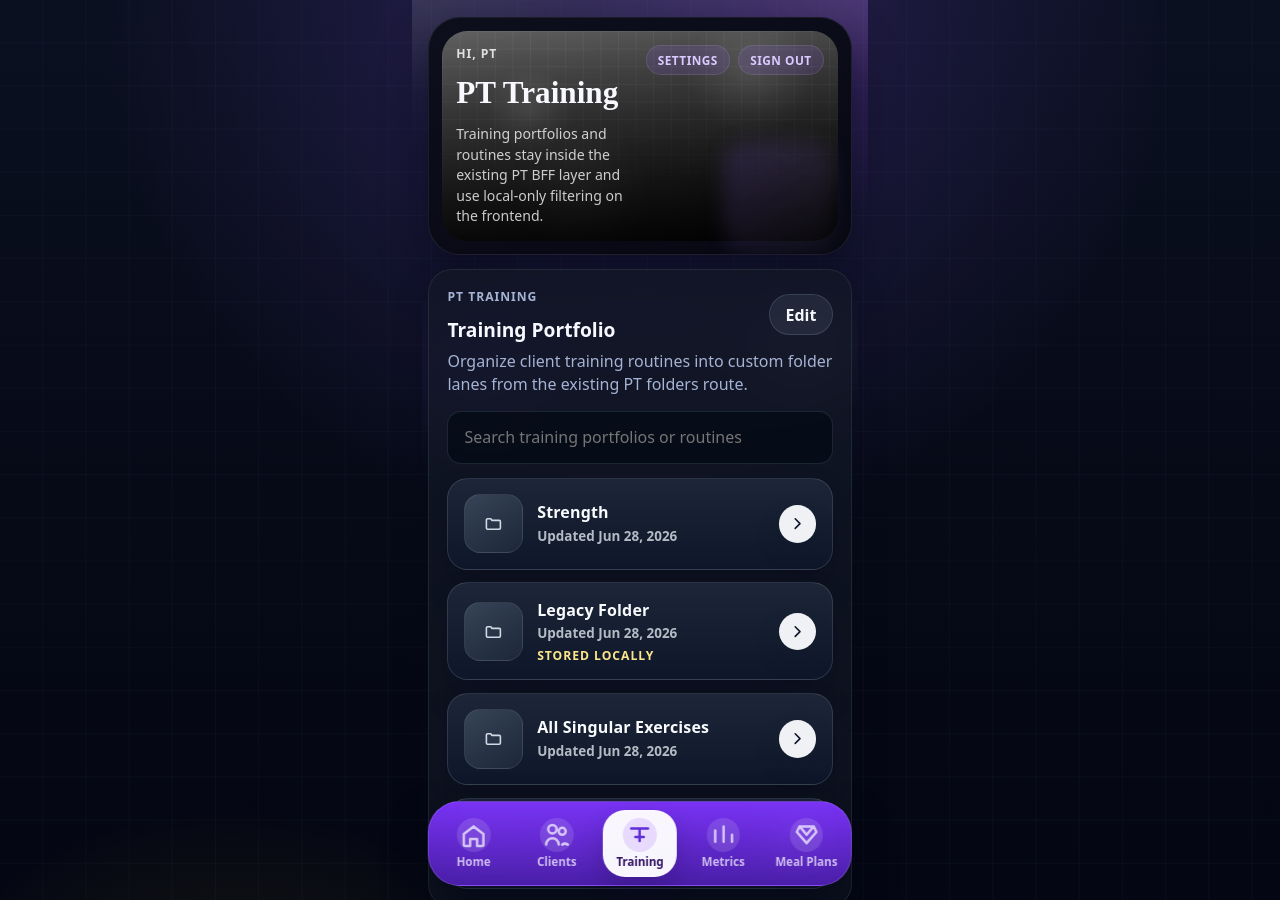
Test case: PTTrainingPage mobile experience › renders legacy single-target publish staging safely for older local routine drafts
Click the button named "Open training portfolio Legacy Folder": (640, 631) x1=447 y1=582 x2=833 y2=680
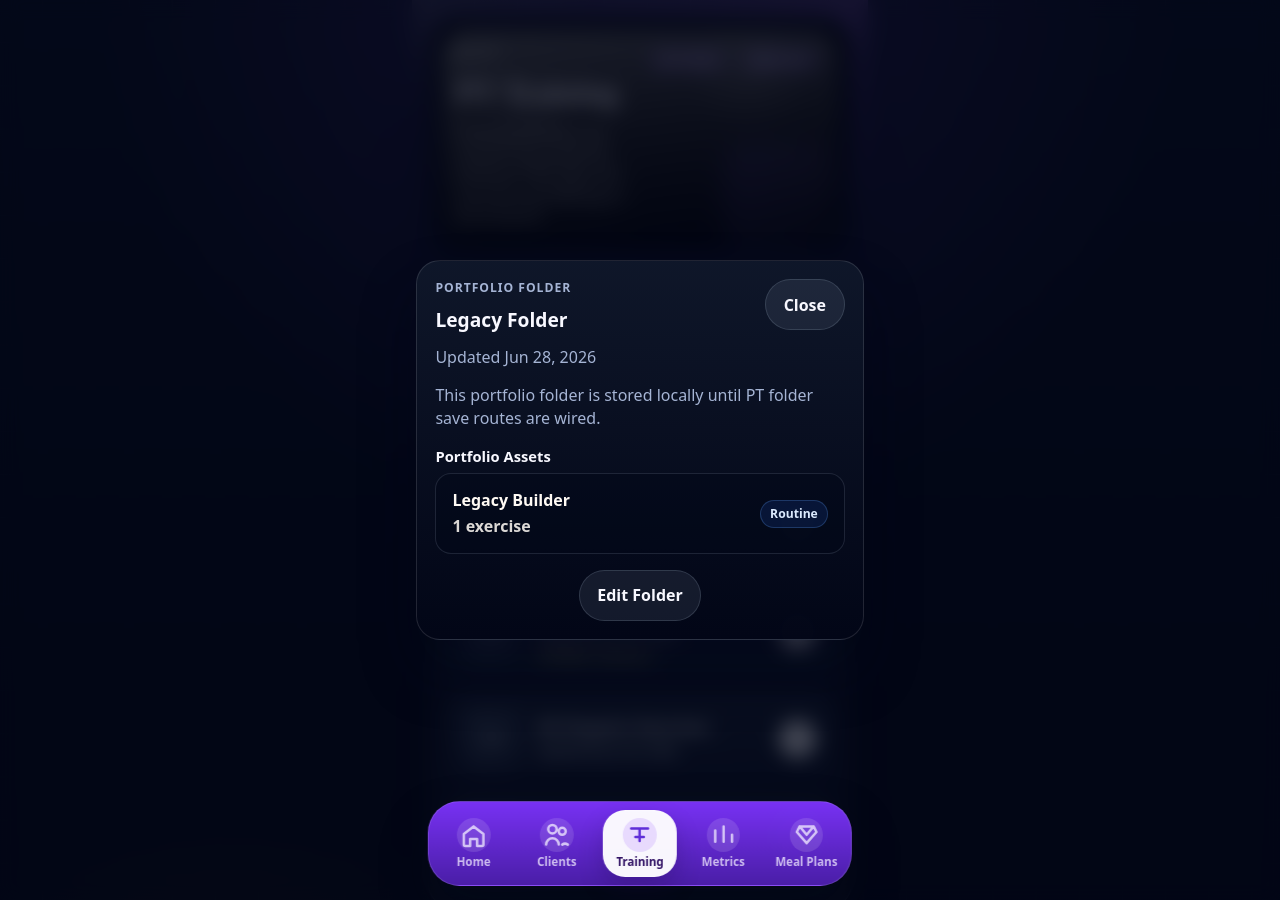
Check: the dialog "Legacy Folder" is shown, box x1=416 y1=260 x2=864 y2=640
Check: the button named "Open Routine asset Legacy Builder" is shown
Click the button named "Open Routine asset Legacy Builder": (511, 500) x1=435 y1=474 x2=845 y2=554
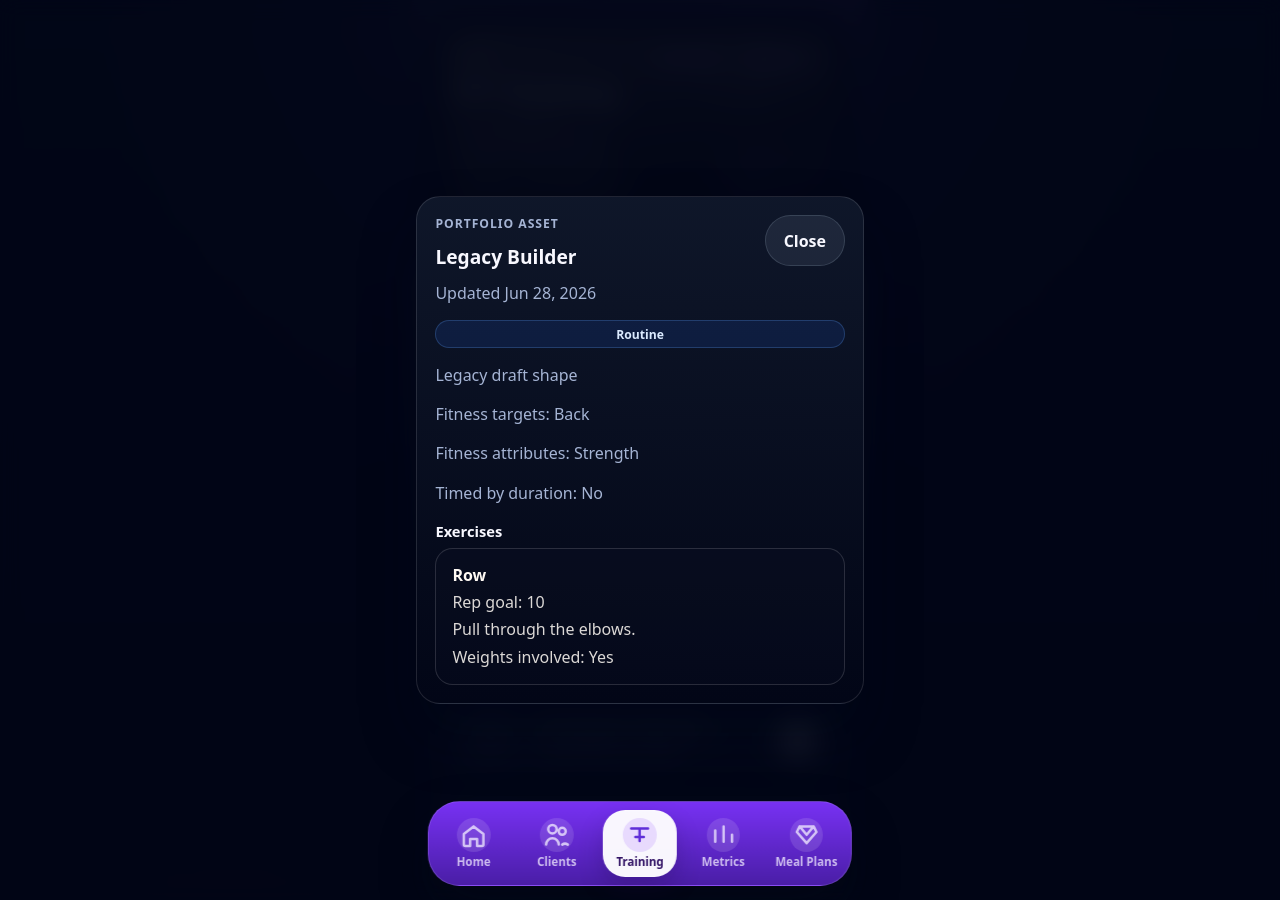
Check: the dialog "Legacy Builder" is shown, box x1=416 y1=196 x2=864 y2=704
Check: the text "Row" is shown, box x1=452 y1=564 x2=486 y2=586
Check: the text "Rep goal: 10" is shown, box x1=452 y1=591 x2=545 y2=613
